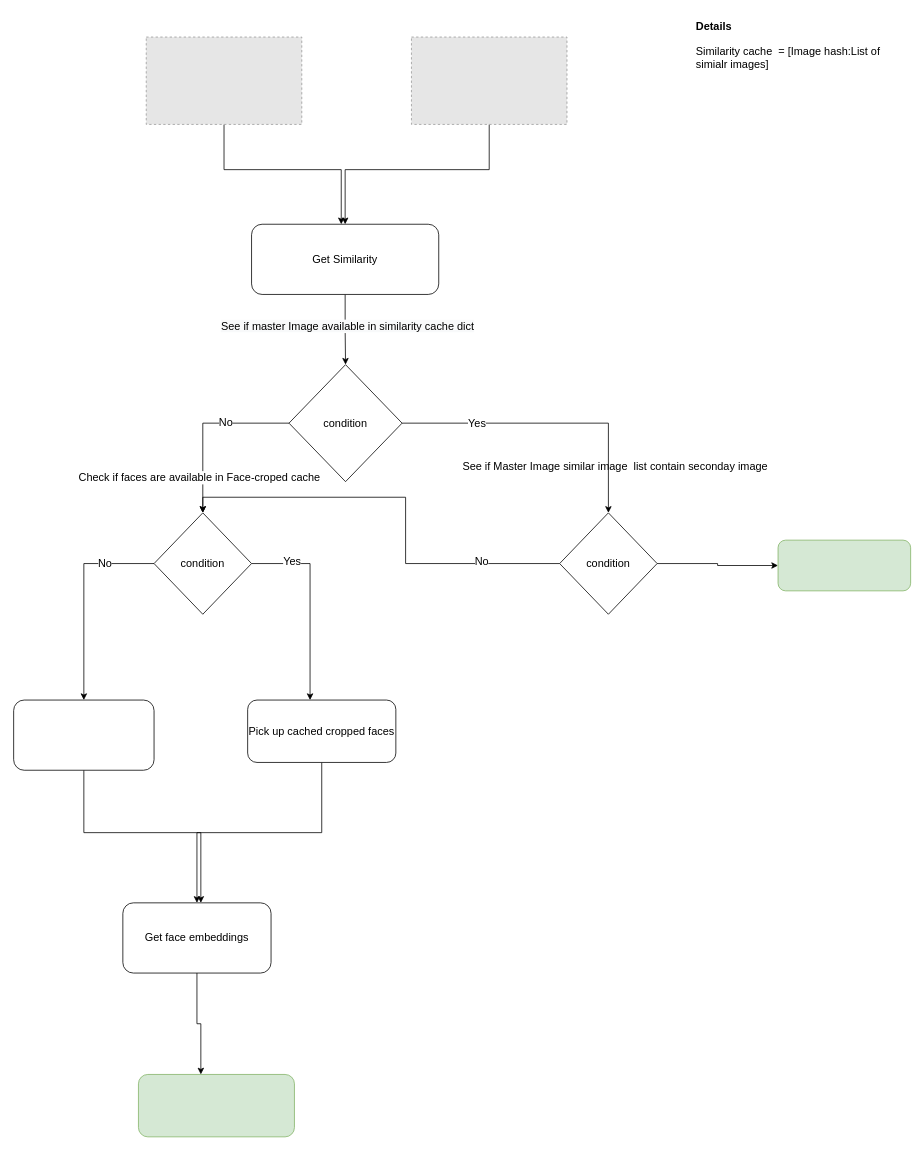
The diagram is 924 pixels wide and 1151 high, and some of its shapes have lost their labels. Grey dashed boxes stand in for pictures. Each missing label, with the box of its shape:
Crop Faces: (13, 699, 154, 770)
Return Cache Score: (777, 539, 911, 591)
Return Face Similarity Score/Cosine score between 2 images: (138, 1074, 294, 1137)
